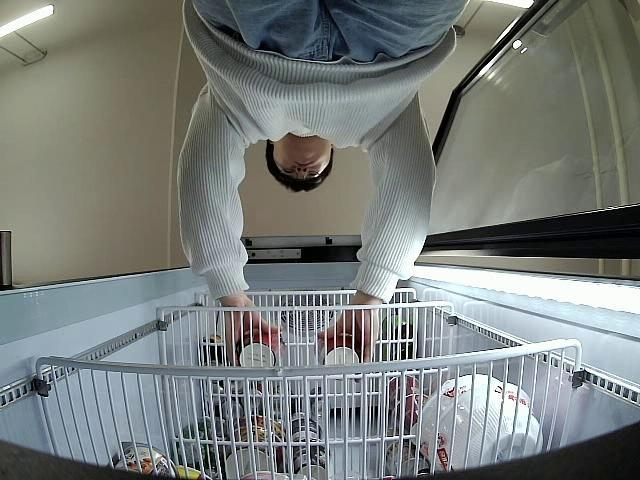02_shinRamen_S: (234, 329, 282, 368), (316, 334, 365, 367)
